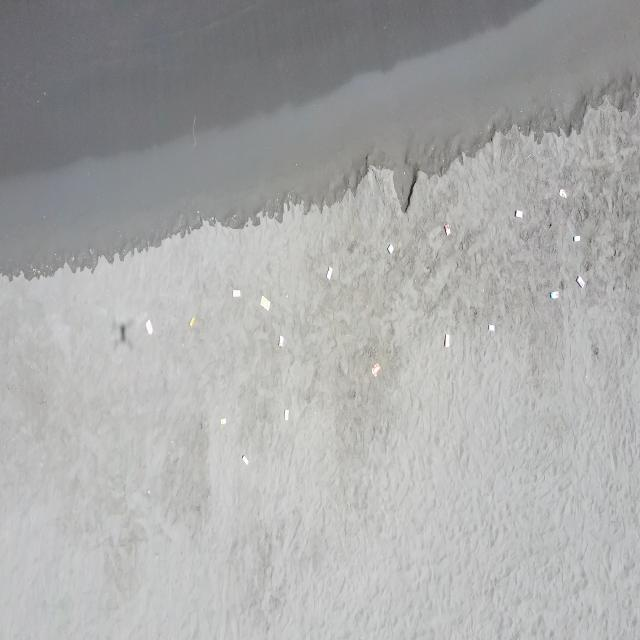retort-pouch: (260, 294, 272, 312), (145, 317, 154, 336), (371, 361, 381, 378), (324, 264, 334, 281), (576, 274, 586, 290), (443, 221, 451, 238), (558, 187, 568, 200), (444, 332, 451, 350), (550, 290, 560, 302), (514, 208, 524, 220), (241, 454, 250, 467), (278, 334, 285, 350), (387, 242, 395, 256), (283, 407, 290, 422), (573, 233, 581, 246), (232, 289, 242, 299), (487, 322, 496, 333), (188, 316, 196, 327), (220, 416, 227, 426)
